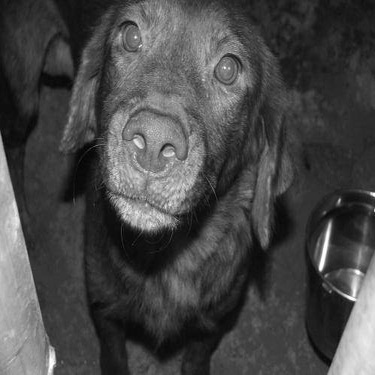dog: (48, 1, 318, 371)
